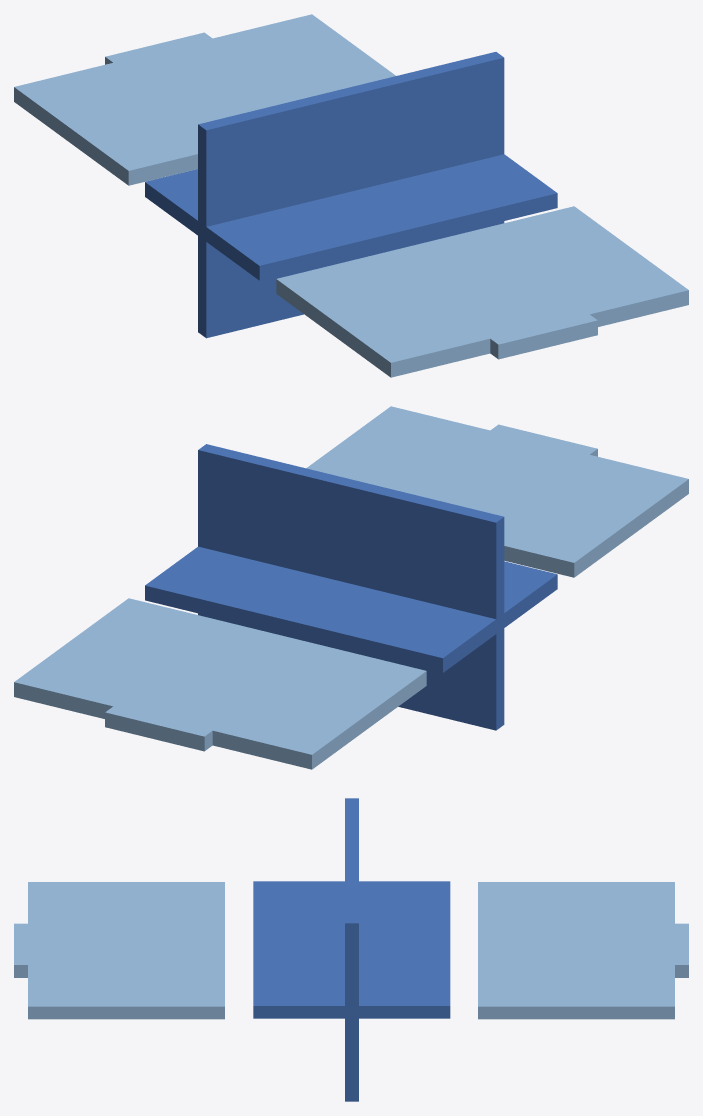
Rendered from crossRotate2.fbx.
3 views of the same model, one above another, from view 1: azimuth 30°, elevation 25°; view 2: azimuth 150°, elevation 25°; view 3: azimuth 270°, elevation 25° (orthographic). The views are drawn at different scales.
Parts seen in each view (by area): view 1: floor, crossRotate2; view 2: floor, crossRotate2; view 3: floor, crossRotate2.
Boxes of the visible parts, left/top/right/bottom form: floor: left=14, top=14, right=688, bottom=377; crossRotate2: left=145, top=52, right=557, bottom=338; floor: left=14, top=406, right=688, bottom=769; crossRotate2: left=145, top=444, right=557, bottom=730; floor: left=14, top=882, right=688, bottom=1019; crossRotate2: left=253, top=798, right=450, bottom=1101.
Size of the model in its own units: 1050 by 700 by 2400.
